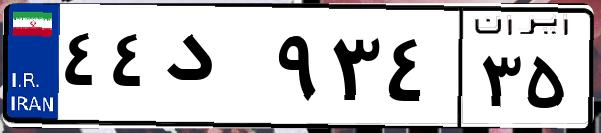3: (330, 28, 385, 110), (475, 38, 525, 113)
4: (385, 28, 445, 110), (57, 26, 110, 100), (110, 28, 158, 98)
5: (525, 38, 570, 115)
9: (270, 28, 330, 110)
د: (158, 20, 270, 120)
